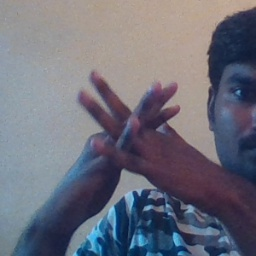W: (65, 61, 197, 202)
